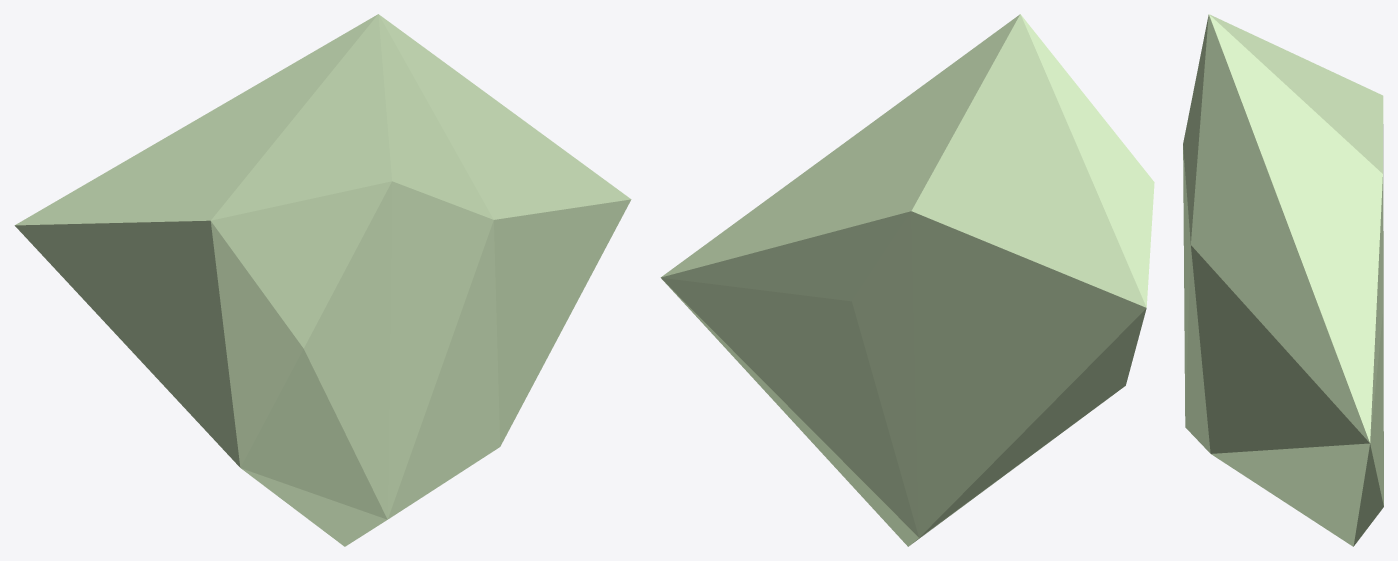
Rendered from kuka_URDF_robot_base_coll_7.dae.
3 views of the same model, side by side, from view 1: azimuth 30°, elevation 25°; view 2: azimuth 150°, elevation 25°; view 3: azimuth 270°, elevation 25° (orthographic). The views are drawn at different scales.
Parts seen in each view (by area): view 1: Node_0000020FCC590AE0; view 2: Node_0000020FCC590AE0; view 3: Node_0000020FCC590AE0.
Part boxes in pixels (box(x1,y1,x2,y2)): Node_0000020FCC590AE0: box(14, 14, 631, 546); Node_0000020FCC590AE0: box(660, 14, 1154, 546); Node_0000020FCC590AE0: box(1183, 14, 1383, 546).
Bounding box in the file's own units: 0.04 × 0.0382 × 0.0136.
